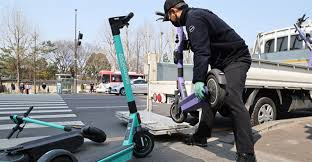fallin_kick: (2, 106, 106, 158)
kick_handler: (108, 10, 134, 37)
kick_neck: (114, 40, 137, 116)
kick_wheel: (133, 133, 154, 156)
